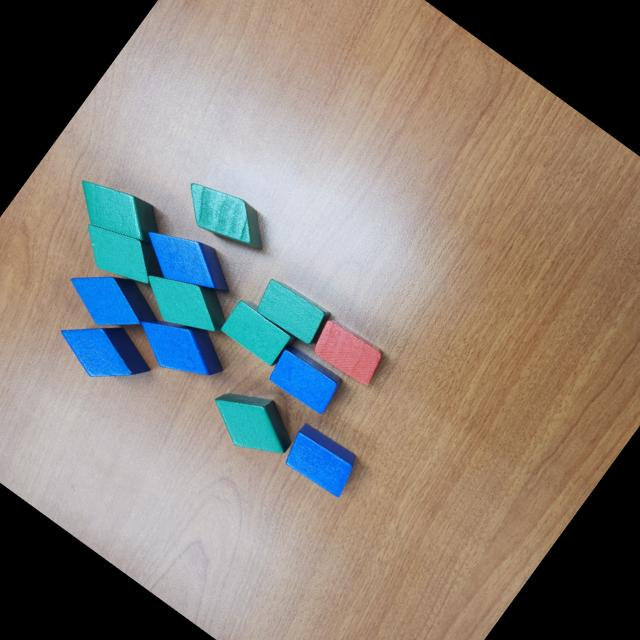blue: (128, 208, 244, 314), (48, 297, 162, 403), (57, 249, 169, 352), (126, 296, 237, 398), (276, 418, 364, 502), (262, 339, 348, 418)
green: (62, 162, 172, 262), (198, 371, 305, 472), (130, 252, 238, 352), (171, 168, 279, 265), (69, 206, 175, 302), (250, 272, 334, 349), (216, 293, 299, 369)
red: (304, 312, 389, 392)
